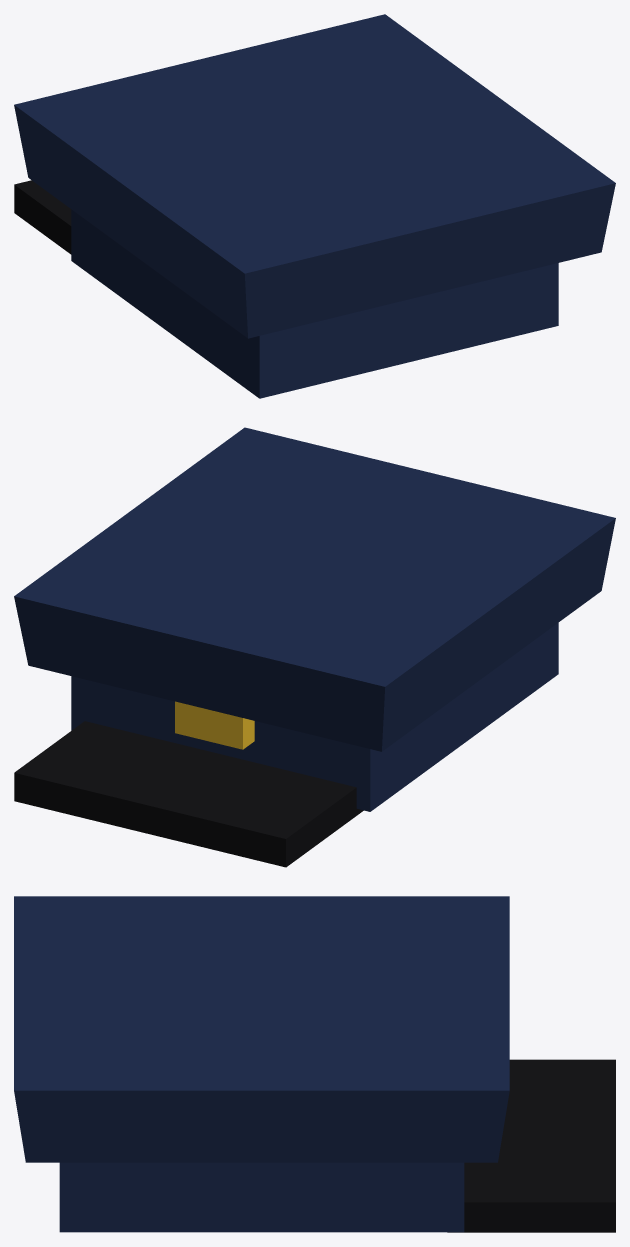
Rendered from acc_police_cap.glb.
3 renders of one model, top to bottom at view 1: azimuth 30°, elevation 25°; view 2: azimuth 150°, elevation 25°; view 3: azimuth 270°, elevation 25°, orthographic. The views are drawn at different scales.
Parts seen in each view (by area): view 1: acc_police_cap__mesh; view 2: acc_police_cap__mesh; view 3: acc_police_cap__mesh.
Part boxes in pixels (bbox=[...]): acc_police_cap__mesh: bbox=[14, 14, 615, 398]; acc_police_cap__mesh: bbox=[14, 427, 615, 867]; acc_police_cap__mesh: bbox=[14, 896, 615, 1232].
Size of the model in its own units: 0.273 by 0.11 by 0.357.
